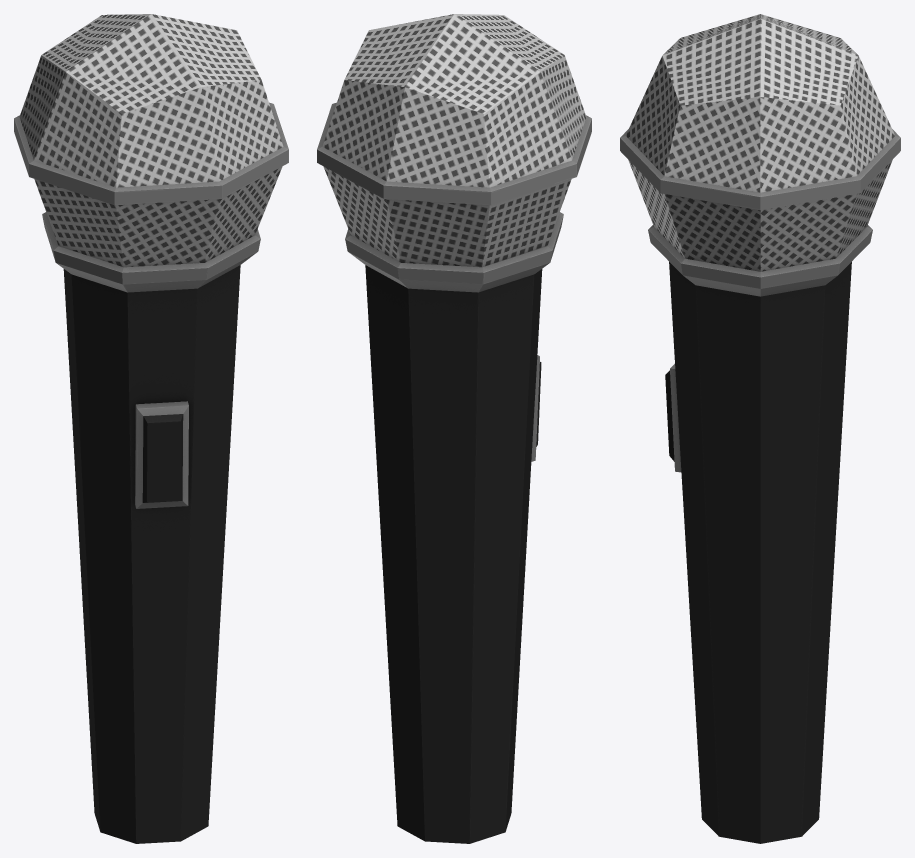
Rendered from Microphone.obj.
3 views of the same model, side by side, from view 1: azimuth 30°, elevation 25°; view 2: azimuth 150°, elevation 25°; view 3: azimuth 270°, elevation 25° (orthographic).
Visible parts, largest first — view 1: Microphone_mesh; view 2: Microphone_mesh; view 3: Microphone_mesh.
Boxes of the visible parts, x1=… form: Microphone_mesh: x1=14, y1=14, x2=288, y2=843; Microphone_mesh: x1=317, y1=14, x2=591, y2=843; Microphone_mesh: x1=620, y1=14, x2=900, y2=843.
Bounding box in the file's own units: 3.54 × 11.14 × 3.54.
Materials: 1 (1 with a texture image).
